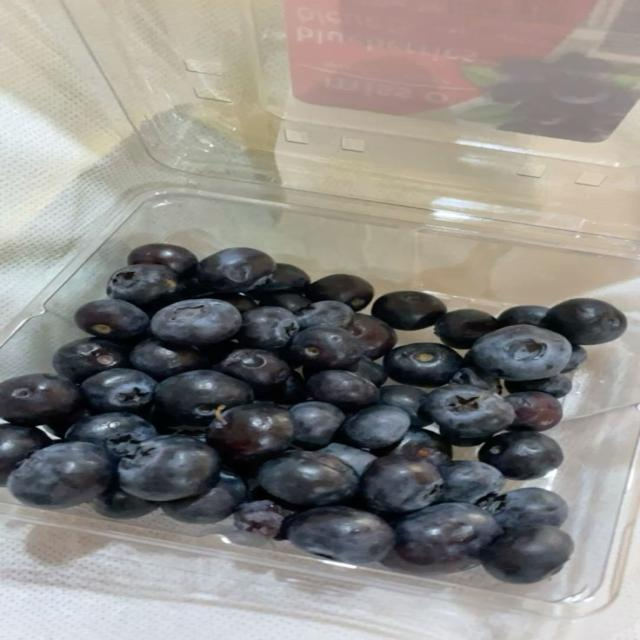blueberry: (395, 503, 502, 572), (7, 443, 113, 508), (118, 436, 219, 501), (287, 506, 394, 564), (471, 325, 572, 380), (155, 370, 253, 426), (259, 451, 358, 506), (480, 525, 573, 583), (207, 404, 293, 459), (426, 385, 514, 438), (161, 470, 246, 524), (362, 455, 442, 512), (0, 374, 83, 426), (152, 299, 241, 346), (66, 412, 158, 457), (479, 432, 563, 479), (544, 298, 626, 344), (198, 248, 276, 292), (384, 343, 462, 387), (53, 339, 128, 383), (486, 488, 568, 528), (81, 369, 156, 412), (130, 340, 208, 380), (0, 424, 51, 485), (340, 405, 410, 449), (216, 349, 291, 390), (74, 299, 149, 339), (290, 327, 363, 368), (107, 264, 178, 306), (307, 370, 379, 411), (372, 292, 446, 330), (440, 461, 505, 503), (378, 429, 451, 466), (434, 309, 500, 349), (290, 401, 345, 448), (239, 307, 299, 349), (306, 275, 373, 311), (505, 391, 562, 431), (347, 314, 397, 359), (234, 500, 293, 538), (380, 385, 432, 427), (128, 244, 198, 274), (94, 487, 157, 519), (253, 263, 310, 297), (320, 443, 377, 476), (257, 371, 308, 405), (297, 300, 354, 329), (506, 374, 572, 398), (451, 367, 502, 394), (345, 358, 387, 387), (197, 294, 258, 313), (258, 292, 312, 313), (351, 358, 387, 387), (440, 427, 490, 447), (198, 341, 239, 365), (498, 306, 548, 325), (561, 345, 587, 373)
